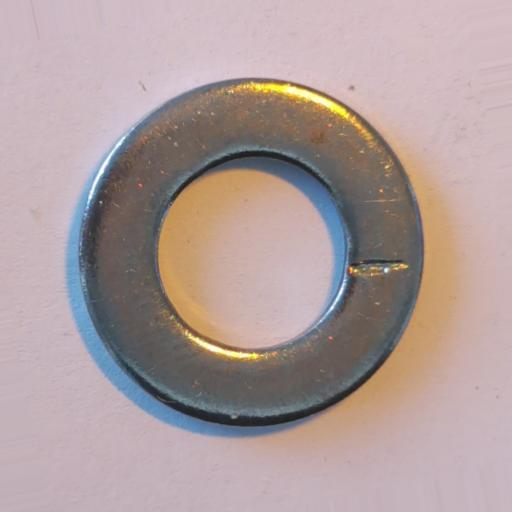scratch: (344, 258, 411, 278)
